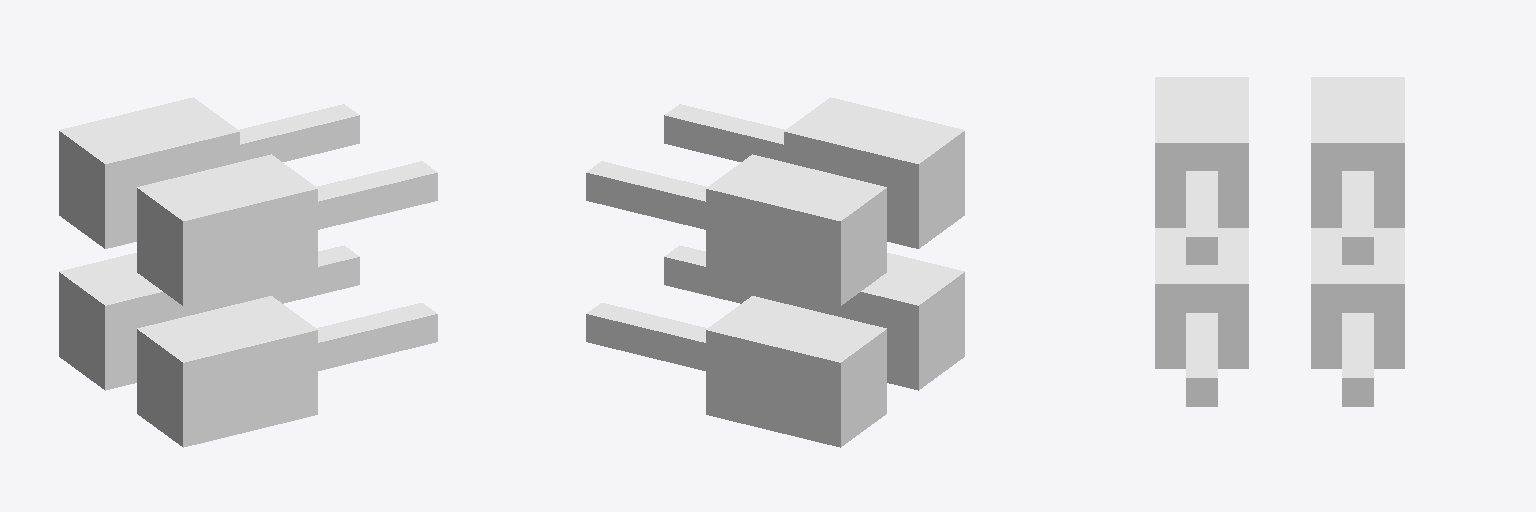
File: box_spike_right.obj
3 views of the same model, side by side, from view 1: azimuth 30°, elevation 25°; view 2: azimuth 150°, elevation 25°; view 3: azimuth 270°, elevation 25° (orthographic).
Visible parts, largest first — view 1: object 1; view 2: object 1; view 3: object 1.
Boxes of the visible parts, box(x1,y1,x2,y2) form: object 1: box(59, 97, 437, 447); object 1: box(586, 97, 964, 447); object 1: box(1155, 77, 1404, 406).
Size of the model in its own units: 1 by 0.8 by 0.8.